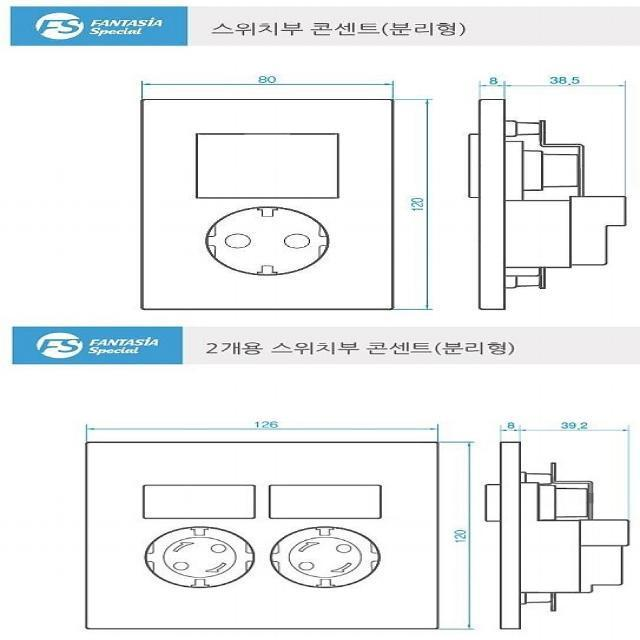typeb: (65, 428, 471, 634), (120, 87, 425, 319)
